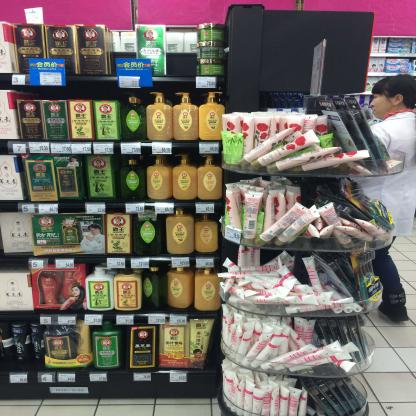Void: (168, 27, 196, 74), (70, 85, 114, 99), (111, 27, 130, 55)
